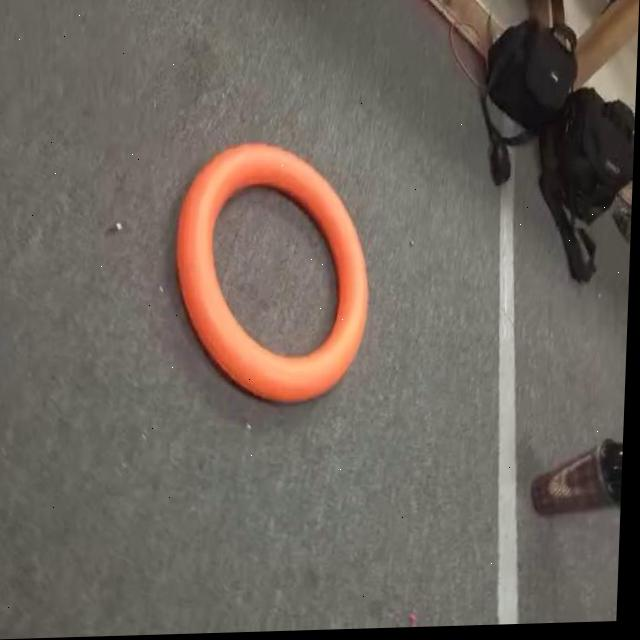note: (160, 130, 386, 420)
